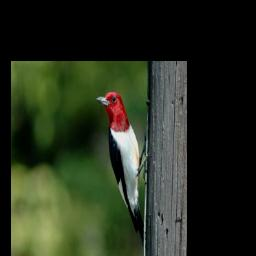Woodpecker: (95, 90, 154, 251)
